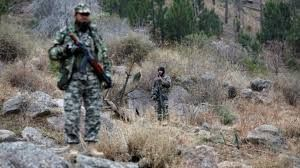gun: (60, 27, 111, 83)
uniform: (50, 18, 114, 145), (146, 63, 175, 125)
